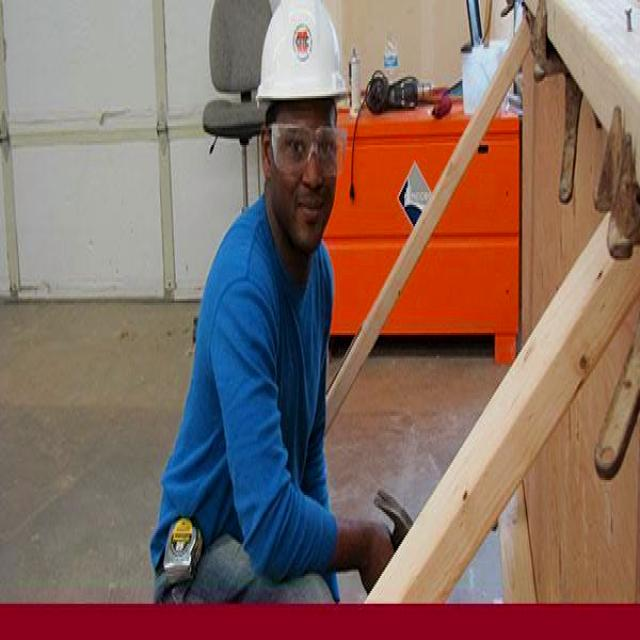face_nomask: (263, 106, 349, 235)
glasses: (268, 118, 350, 184)
hand_noglove: (353, 491, 404, 604)
head_helmet: (261, 4, 349, 98)
person: (193, 0, 392, 606)
